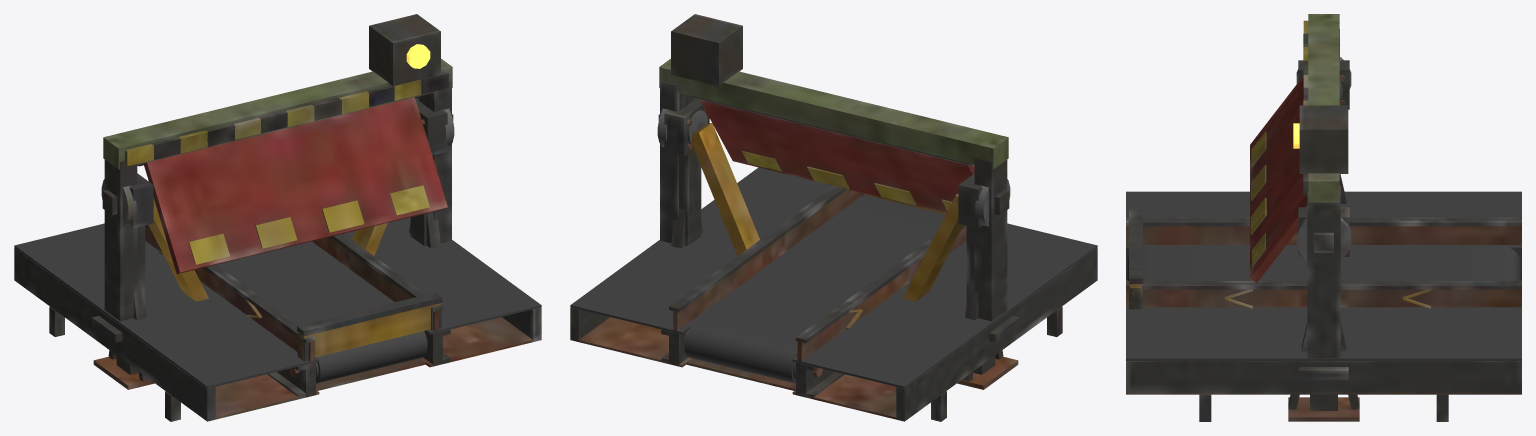
Rendered from feBeltGate.glb.
3 views of the same model, side by side, from view 1: azimuth 30°, elevation 25°; view 2: azimuth 150°, elevation 25°; view 3: azimuth 270°, elevation 25° (orthographic). The views are drawn at different scales.
Visible parts, largest first — view 1: FeLever_BeltGate, FeBeltFill_R, FeBeltExtra_Gantry, FeBeltBed, FeBeltFill_L, FeBeltEnd, FeBeltDrive_R, FeRail_R, FeRail_L, FeBeltDrive_L, FeSpin_BeltDrive_R; view 2: FeBeltFill_R, FeBeltExtra_Gantry, FeBeltBed, FeBeltFill_L, FeLever_BeltGate, FeBeltDrive_L, FeRail_L, FeBeltDrive_R, FeRail_R, FeSpin_BeltDrive_R; view 3: FeBeltFill_L, FeBeltExtra_Gantry, FeBeltBed, FeRail_L, FeBeltFill_R, FeRail_R, FeLever_BeltGate, FeBeltDrive_L, FeBeltEnd, FeSpin_BeltDrive_L, FeBeltDrive_R.
Boxes of the visible parts, x1,y1,x2,y2 form: FeLever_BeltGate: [137, 96, 447, 274]; FeBeltFill_R: [14, 223, 319, 421]; FeBeltExtra_Gantry: [92, 14, 452, 342]; FeBeltBed: [217, 242, 450, 399]; FeBeltFill_L: [307, 217, 541, 367]; FeBeltEnd: [297, 292, 442, 382]; FeBeltDrive_R: [93, 173, 208, 389]; FeRail_R: [145, 225, 315, 363]; FeRail_L: [312, 233, 442, 333]; FeBeltDrive_L: [352, 98, 447, 255]; FeSpin_BeltDrive_R: [101, 179, 136, 226]; FeBeltFill_R: [792, 223, 1097, 421]; FeBeltExtra_Gantry: [659, 14, 1019, 342]; FeBeltBed: [661, 195, 945, 399]; FeBeltFill_L: [570, 167, 867, 367]; FeLever_BeltGate: [691, 96, 974, 213]; FeBeltDrive_L: [664, 98, 759, 255]; FeRail_L: [669, 186, 861, 333]; FeBeltDrive_R: [903, 173, 1018, 389]; FeRail_R: [796, 225, 966, 363]; FeSpin_BeltDrive_R: [975, 179, 1010, 226]; FeBeltFill_L: [1126, 307, 1521, 421]; FeBeltExtra_Gantry: [1293, 14, 1348, 379]; FeBeltBed: [1126, 246, 1521, 280]; FeRail_L: [1126, 281, 1521, 308]; FeBeltFill_R: [1126, 191, 1521, 280]; FeRail_R: [1126, 217, 1521, 244]; FeLever_BeltGate: [1250, 76, 1307, 282]; FeBeltDrive_L: [1288, 207, 1359, 421]; FeBeltEnd: [1129, 209, 1142, 309]; FeSpin_BeltDrive_L: [1296, 216, 1351, 259]; FeBeltDrive_R: [1298, 60, 1349, 203].
Size of the model in its own units: 1.04 by 0.7918 by 1.
Materials: 3 (1 with a texture image).
